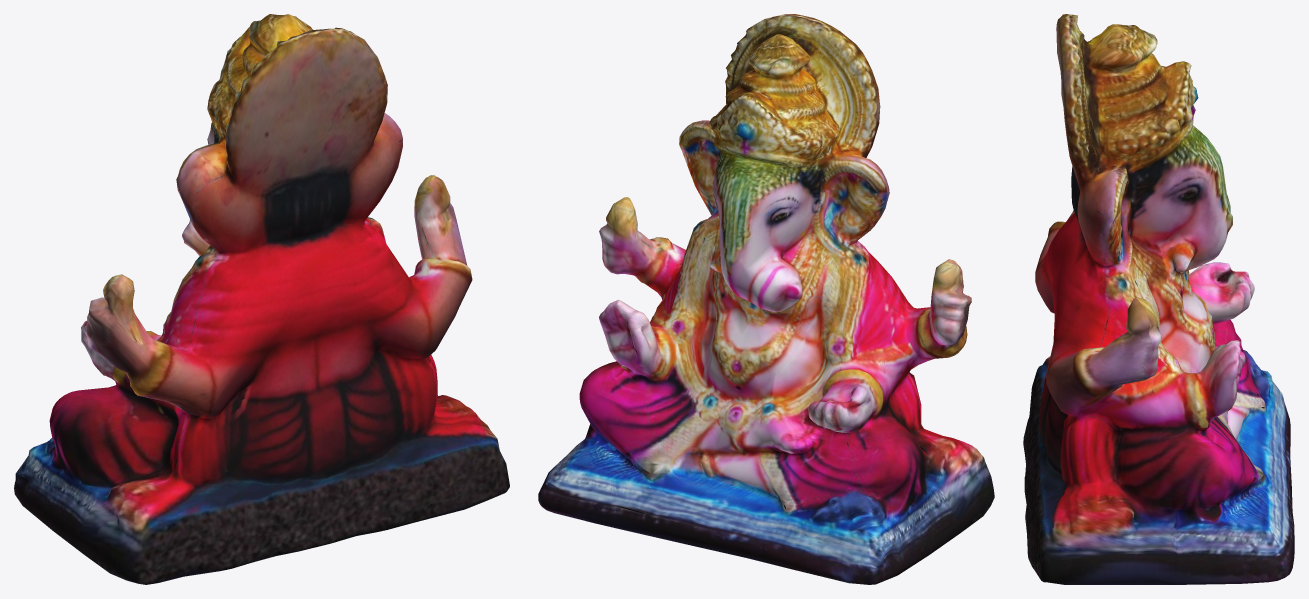
Rendered from ganesha.glb.
3 renders of one model, left to right at view 1: azimuth 30°, elevation 25°; view 2: azimuth 150°, elevation 25°; view 3: azimuth 270°, elevation 25°, orthographic. The views are drawn at different scales.
Parts seen in each view (by area): view 1: Ganesh_Color_End_LR; view 2: Ganesh_Color_End_LR; view 3: Ganesh_Color_End_LR.
Boxes of the visible parts, x1,y1,x2,y2 form: Ganesh_Color_End_LR: [14, 14, 509, 584]; Ganesh_Color_End_LR: [538, 14, 994, 584]; Ganesh_Color_End_LR: [1023, 14, 1294, 584].
Size of the model in its own units: 25.87 by 31.47 by 16.23.
1 material, 1 textured.
